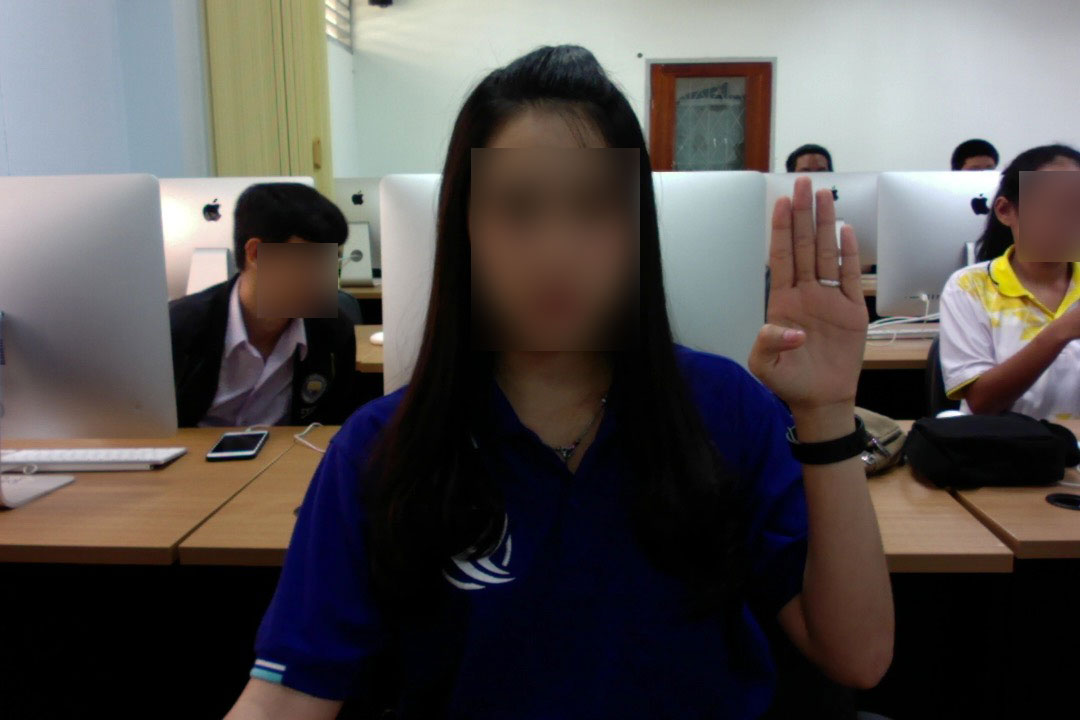bor: (740, 164, 884, 445)
